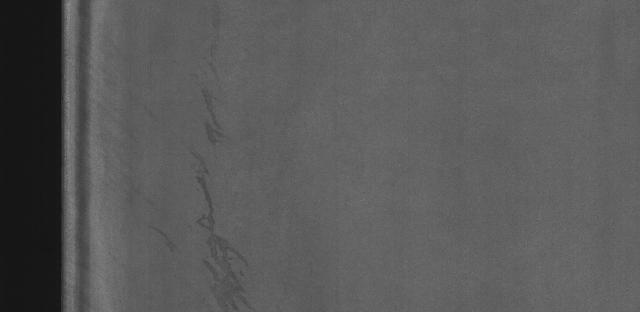water_spot: (174, 82, 279, 310)
